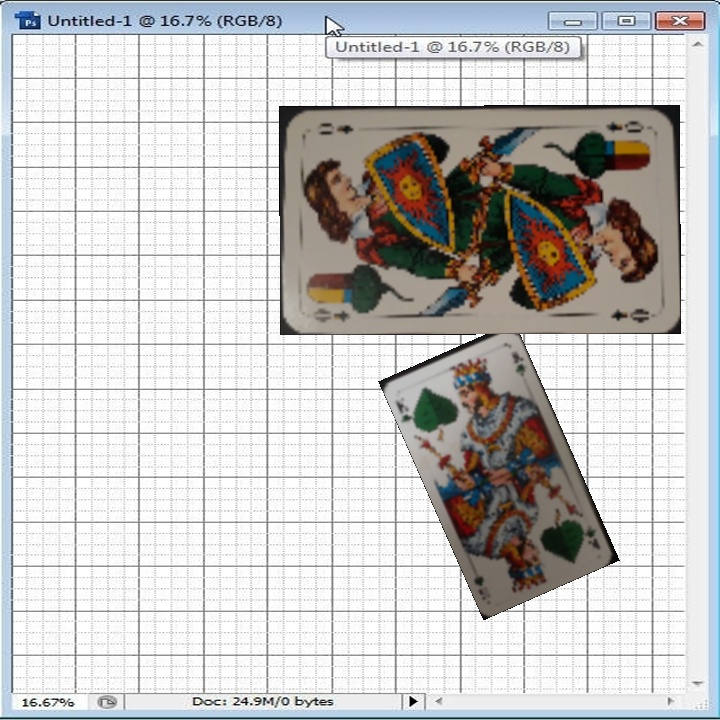EO: (602, 117, 653, 136), (308, 304, 353, 325)
GK: (391, 396, 418, 426), (582, 523, 603, 552)
